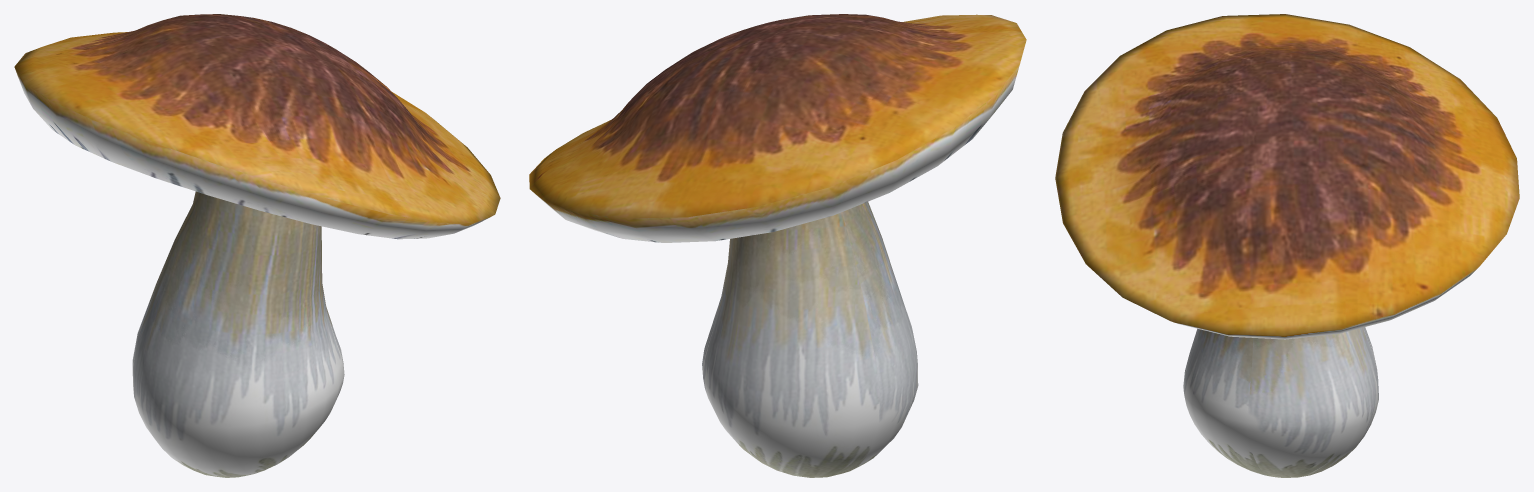
Rendered from champibon_mesh.fbx.
3 views of the same model, side by side, from view 1: azimuth 30°, elevation 25°; view 2: azimuth 150°, elevation 25°; view 3: azimuth 270°, elevation 25° (orthographic). The views are drawn at different scales.
Visible parts, largest first — view 1: champi bon; view 2: champi bon; view 3: champi bon.
Boxes of the visible parts, box(x1,y1,x2,y2) form: champi bon: box(14, 14, 500, 477); champi bon: box(529, 14, 1026, 477); champi bon: box(1055, 14, 1519, 477).
Size of the model in its own units: 142 by 141 by 150.
